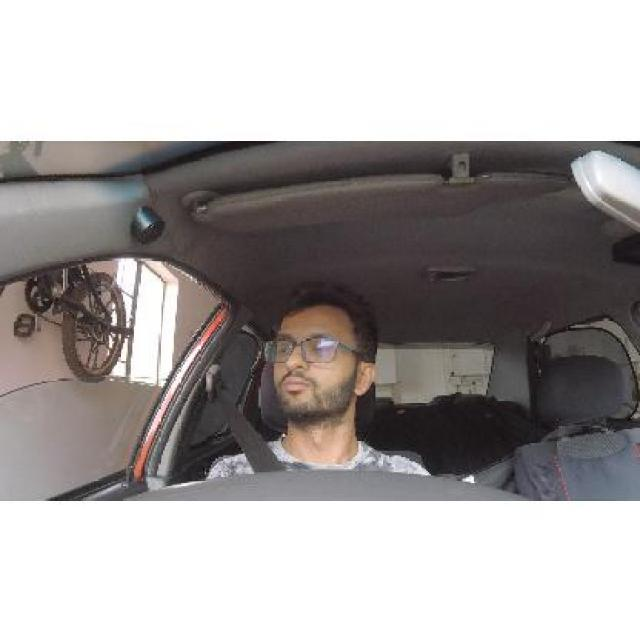drowsy: (263, 278, 385, 445)
